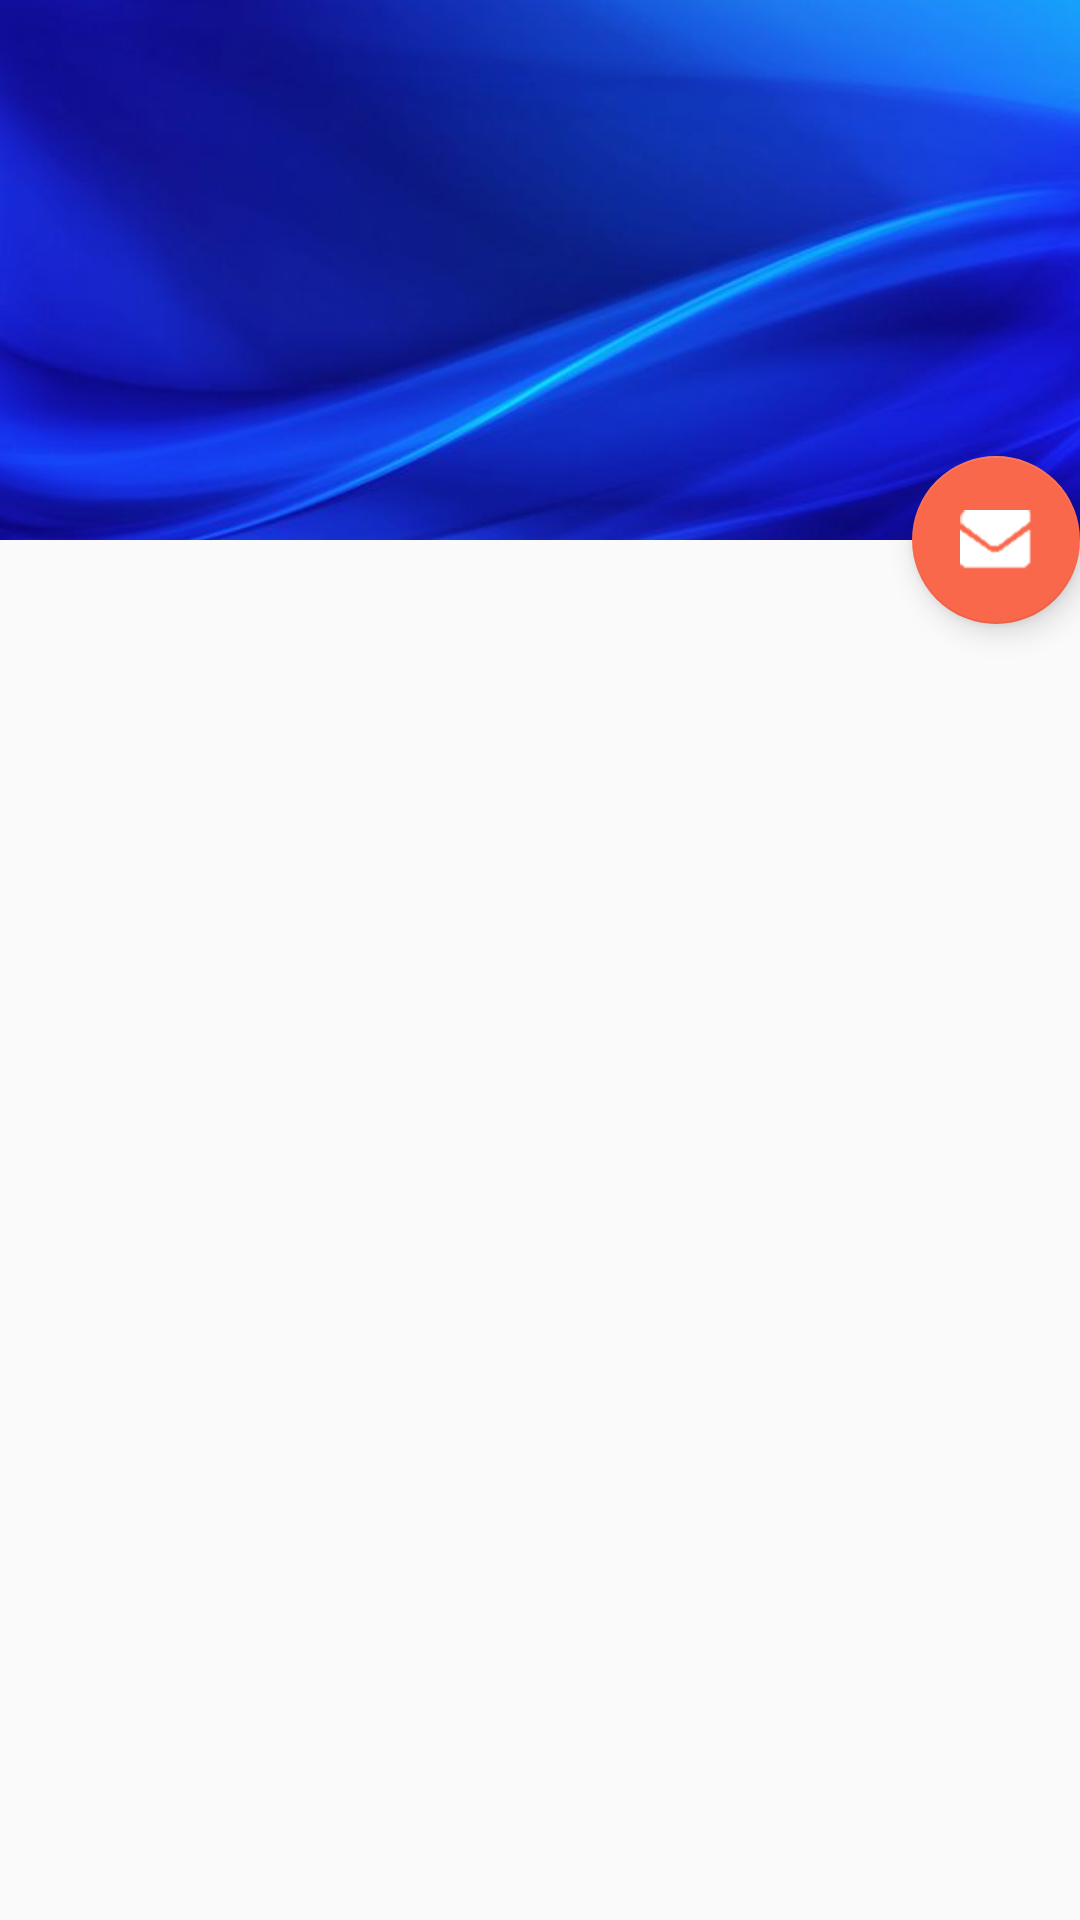

Where to tap for icons on this 1080px×1920px app screen, as point (x, y):
mail: point (996, 540)
